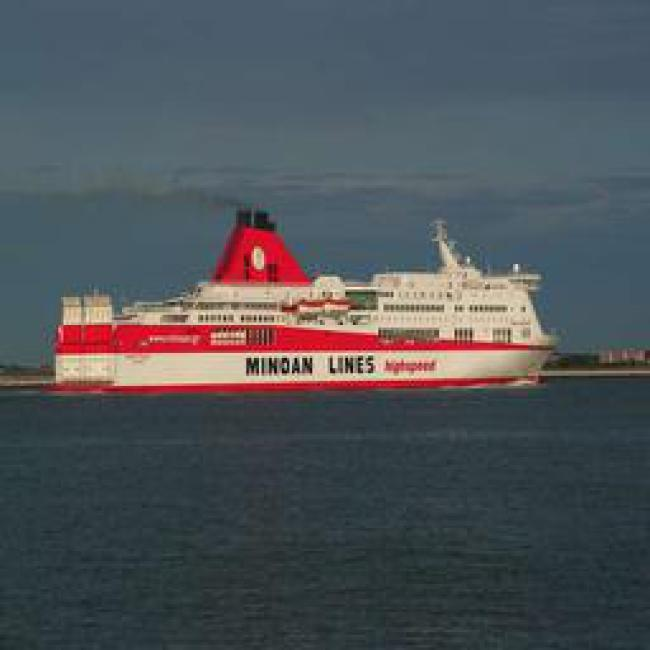Ship: (29, 234, 546, 405)
